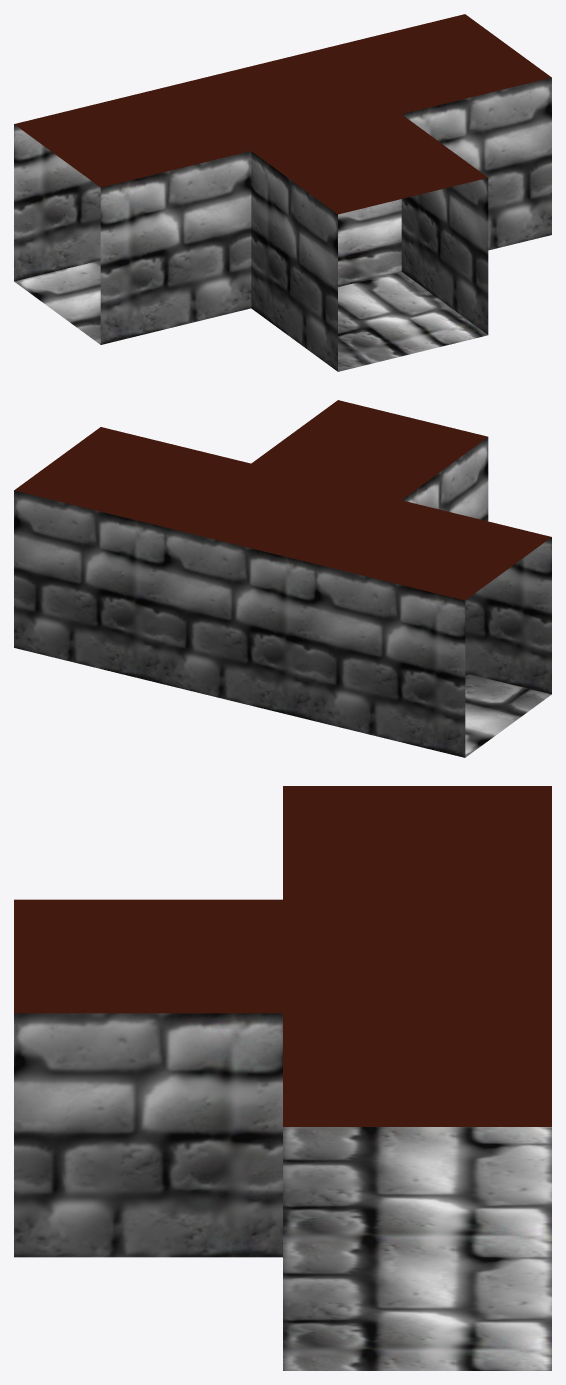
File: castle_T1.fbx
3 views of the same model, one above another, from view 1: azimuth 30°, elevation 25°; view 2: azimuth 150°, elevation 25°; view 3: azimuth 270°, elevation 25° (orthographic). The views are drawn at different scales.
Visible parts, largest first — view 1: Plane.024; view 2: Plane.024; view 3: Plane.024.
Boxes of the visible parts, left/top/right/bottom form: Plane.024: left=14, top=14, right=551, bottom=371; Plane.024: left=14, top=400, right=551, bottom=757; Plane.024: left=14, top=786, right=551, bottom=1370.
Bounding box in the file's own units: 1200 × 400 × 800.
2 materials, 1 textured.
